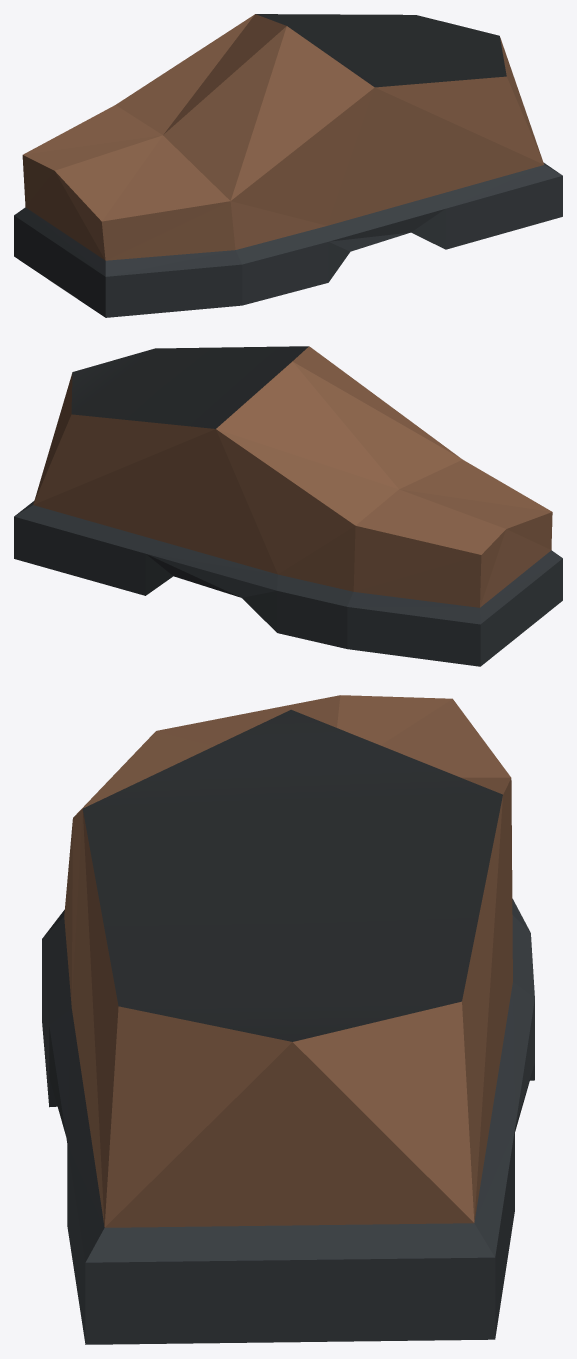
Rendered from SM_Prop_Shoes_01.glb.
3 views of the same model, one above another, from view 1: azimuth 30°, elevation 25°; view 2: azimuth 150°, elevation 25°; view 3: azimuth 270°, elevation 25° (orthographic). The views are drawn at different scales.
Visible parts, largest first — view 1: SM_Prop_Shoes_01; view 2: SM_Prop_Shoes_01; view 3: SM_Prop_Shoes_01.
Part boxes in pixels (x1=…): SM_Prop_Shoes_01: x1=14, y1=14, x2=562, y2=317; SM_Prop_Shoes_01: x1=14, y1=346, x2=562, y2=666; SM_Prop_Shoes_01: x1=42, y1=695, x2=534, y2=1344.
Bounding box in the file's own units: 0.235 × 0.1032 × 0.1109.
1 material, 1 textured.
